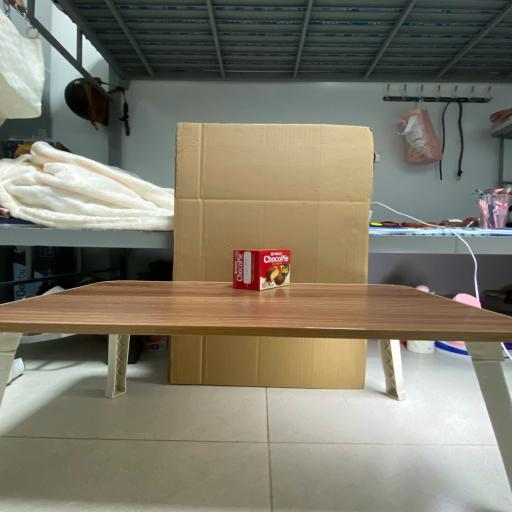chocopie: (231, 249, 292, 292)
